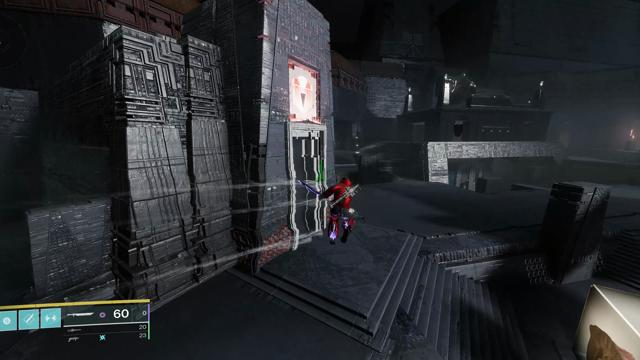give: (291, 75, 312, 112)
